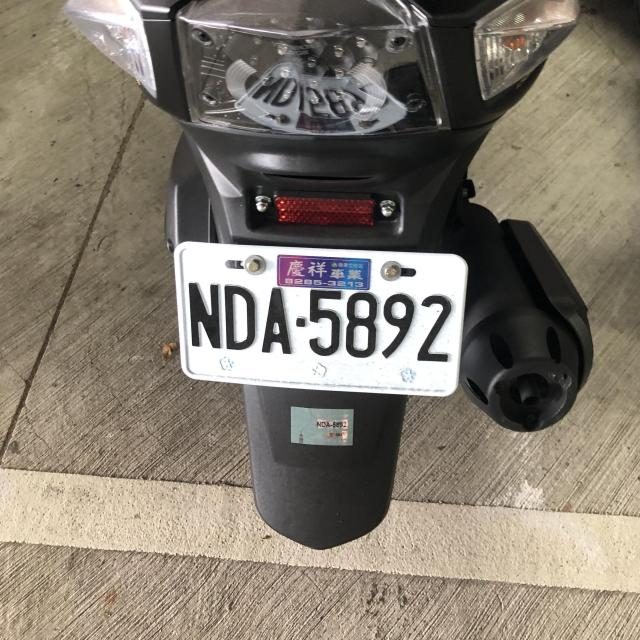W: (169, 240, 468, 396)
